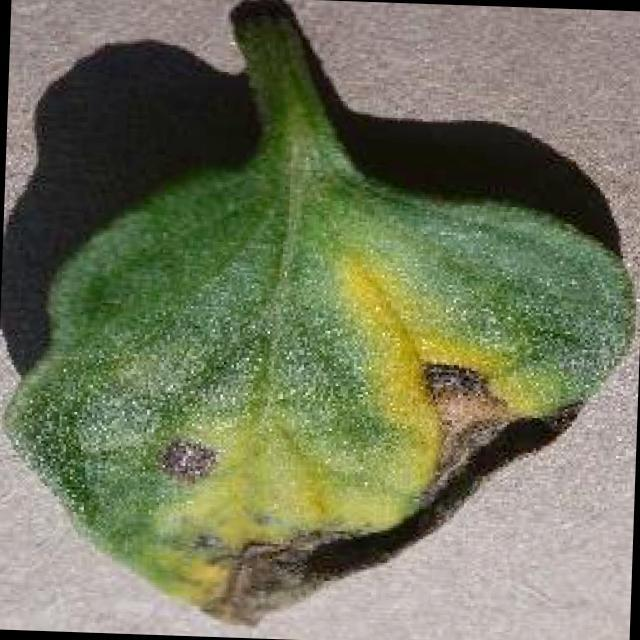Tomato Early blight leaf: (0, 162, 633, 640)
